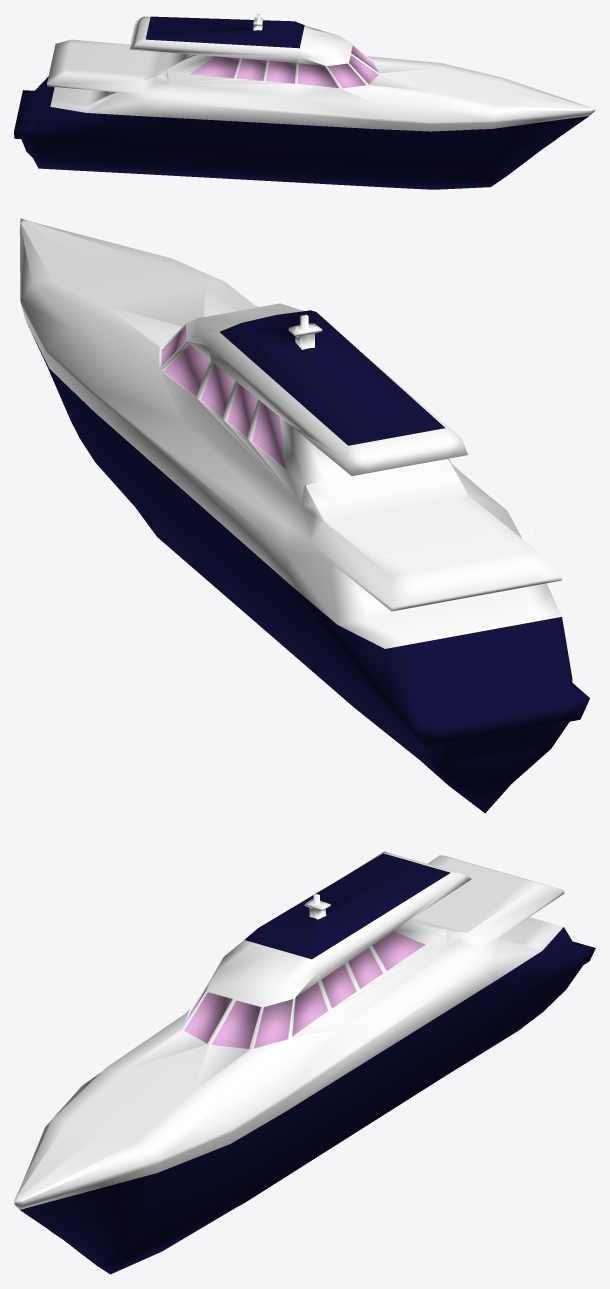
The model's file is Yacht.fbx.
3 renders of one model, top to bottom at view 1: azimuth 30°, elevation 25°; view 2: azimuth 150°, elevation 25°; view 3: azimuth 270°, elevation 25°, orthographic. The views are drawn at different scales.
Visible parts, largest first — view 1: Yacht.001; view 2: Yacht.001; view 3: Yacht.001.
Part boxes in pixels (x1,y1,x2,y2): Yacht.001: (14, 14, 595, 189); Yacht.001: (19, 218, 589, 813); Yacht.001: (14, 851, 595, 1274).
Size of the model in its own units: 5442 by 2026 by 4079.
